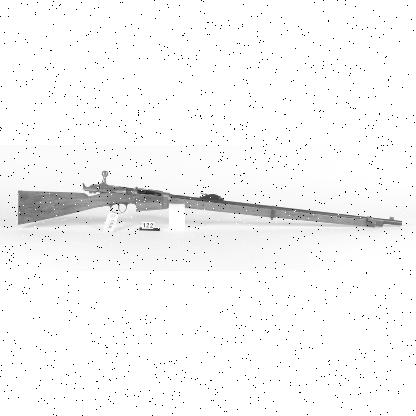gun: (19, 171, 400, 223)
